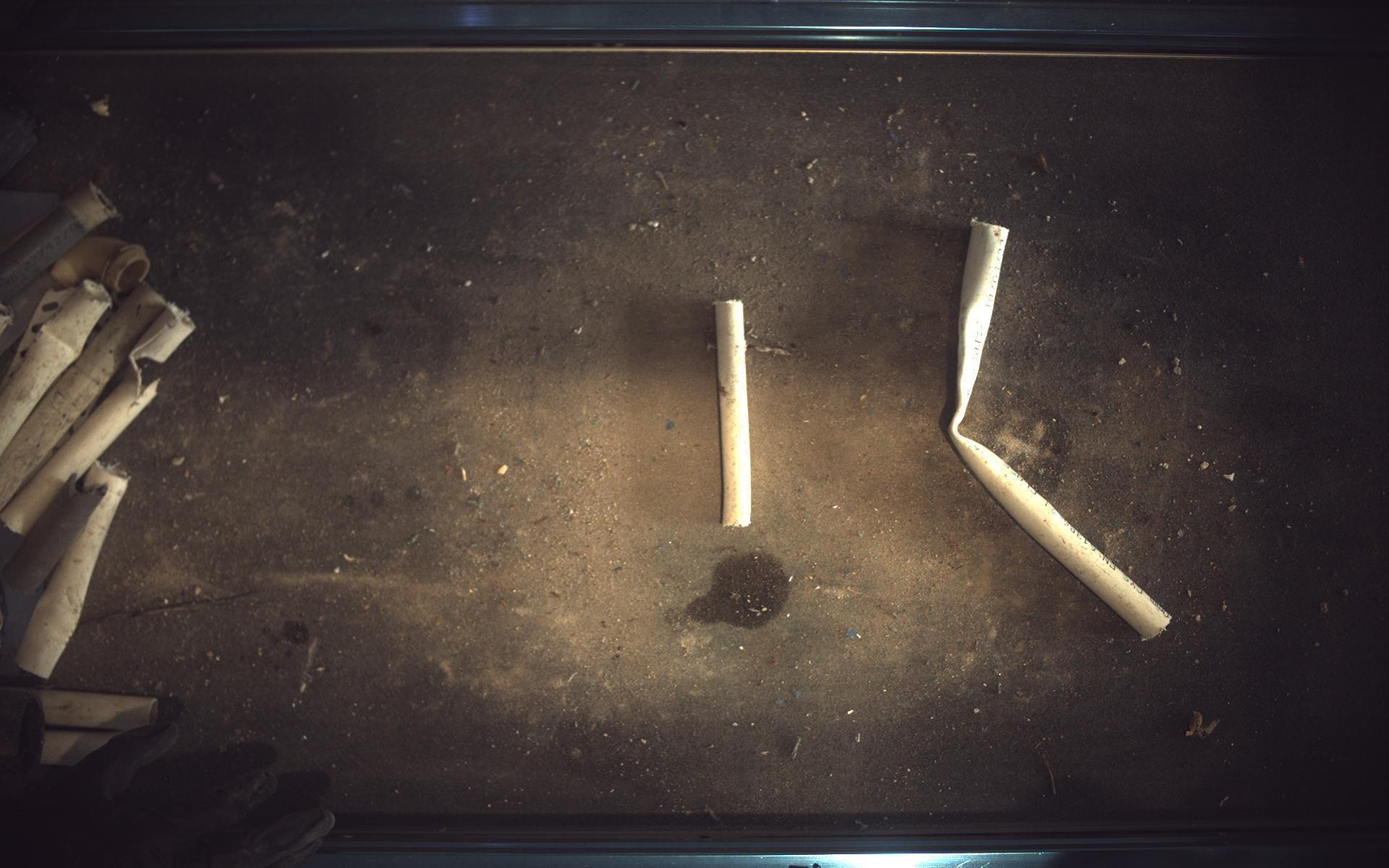pipes: (951, 218, 1173, 639), (1, 303, 193, 535), (1, 283, 163, 511), (14, 462, 127, 680), (1, 279, 111, 454), (1, 236, 149, 353), (1, 180, 117, 302), (1, 475, 105, 595), (716, 299, 752, 527), (1, 689, 179, 733), (1, 690, 42, 760)
plastic: (1, 288, 73, 389)
